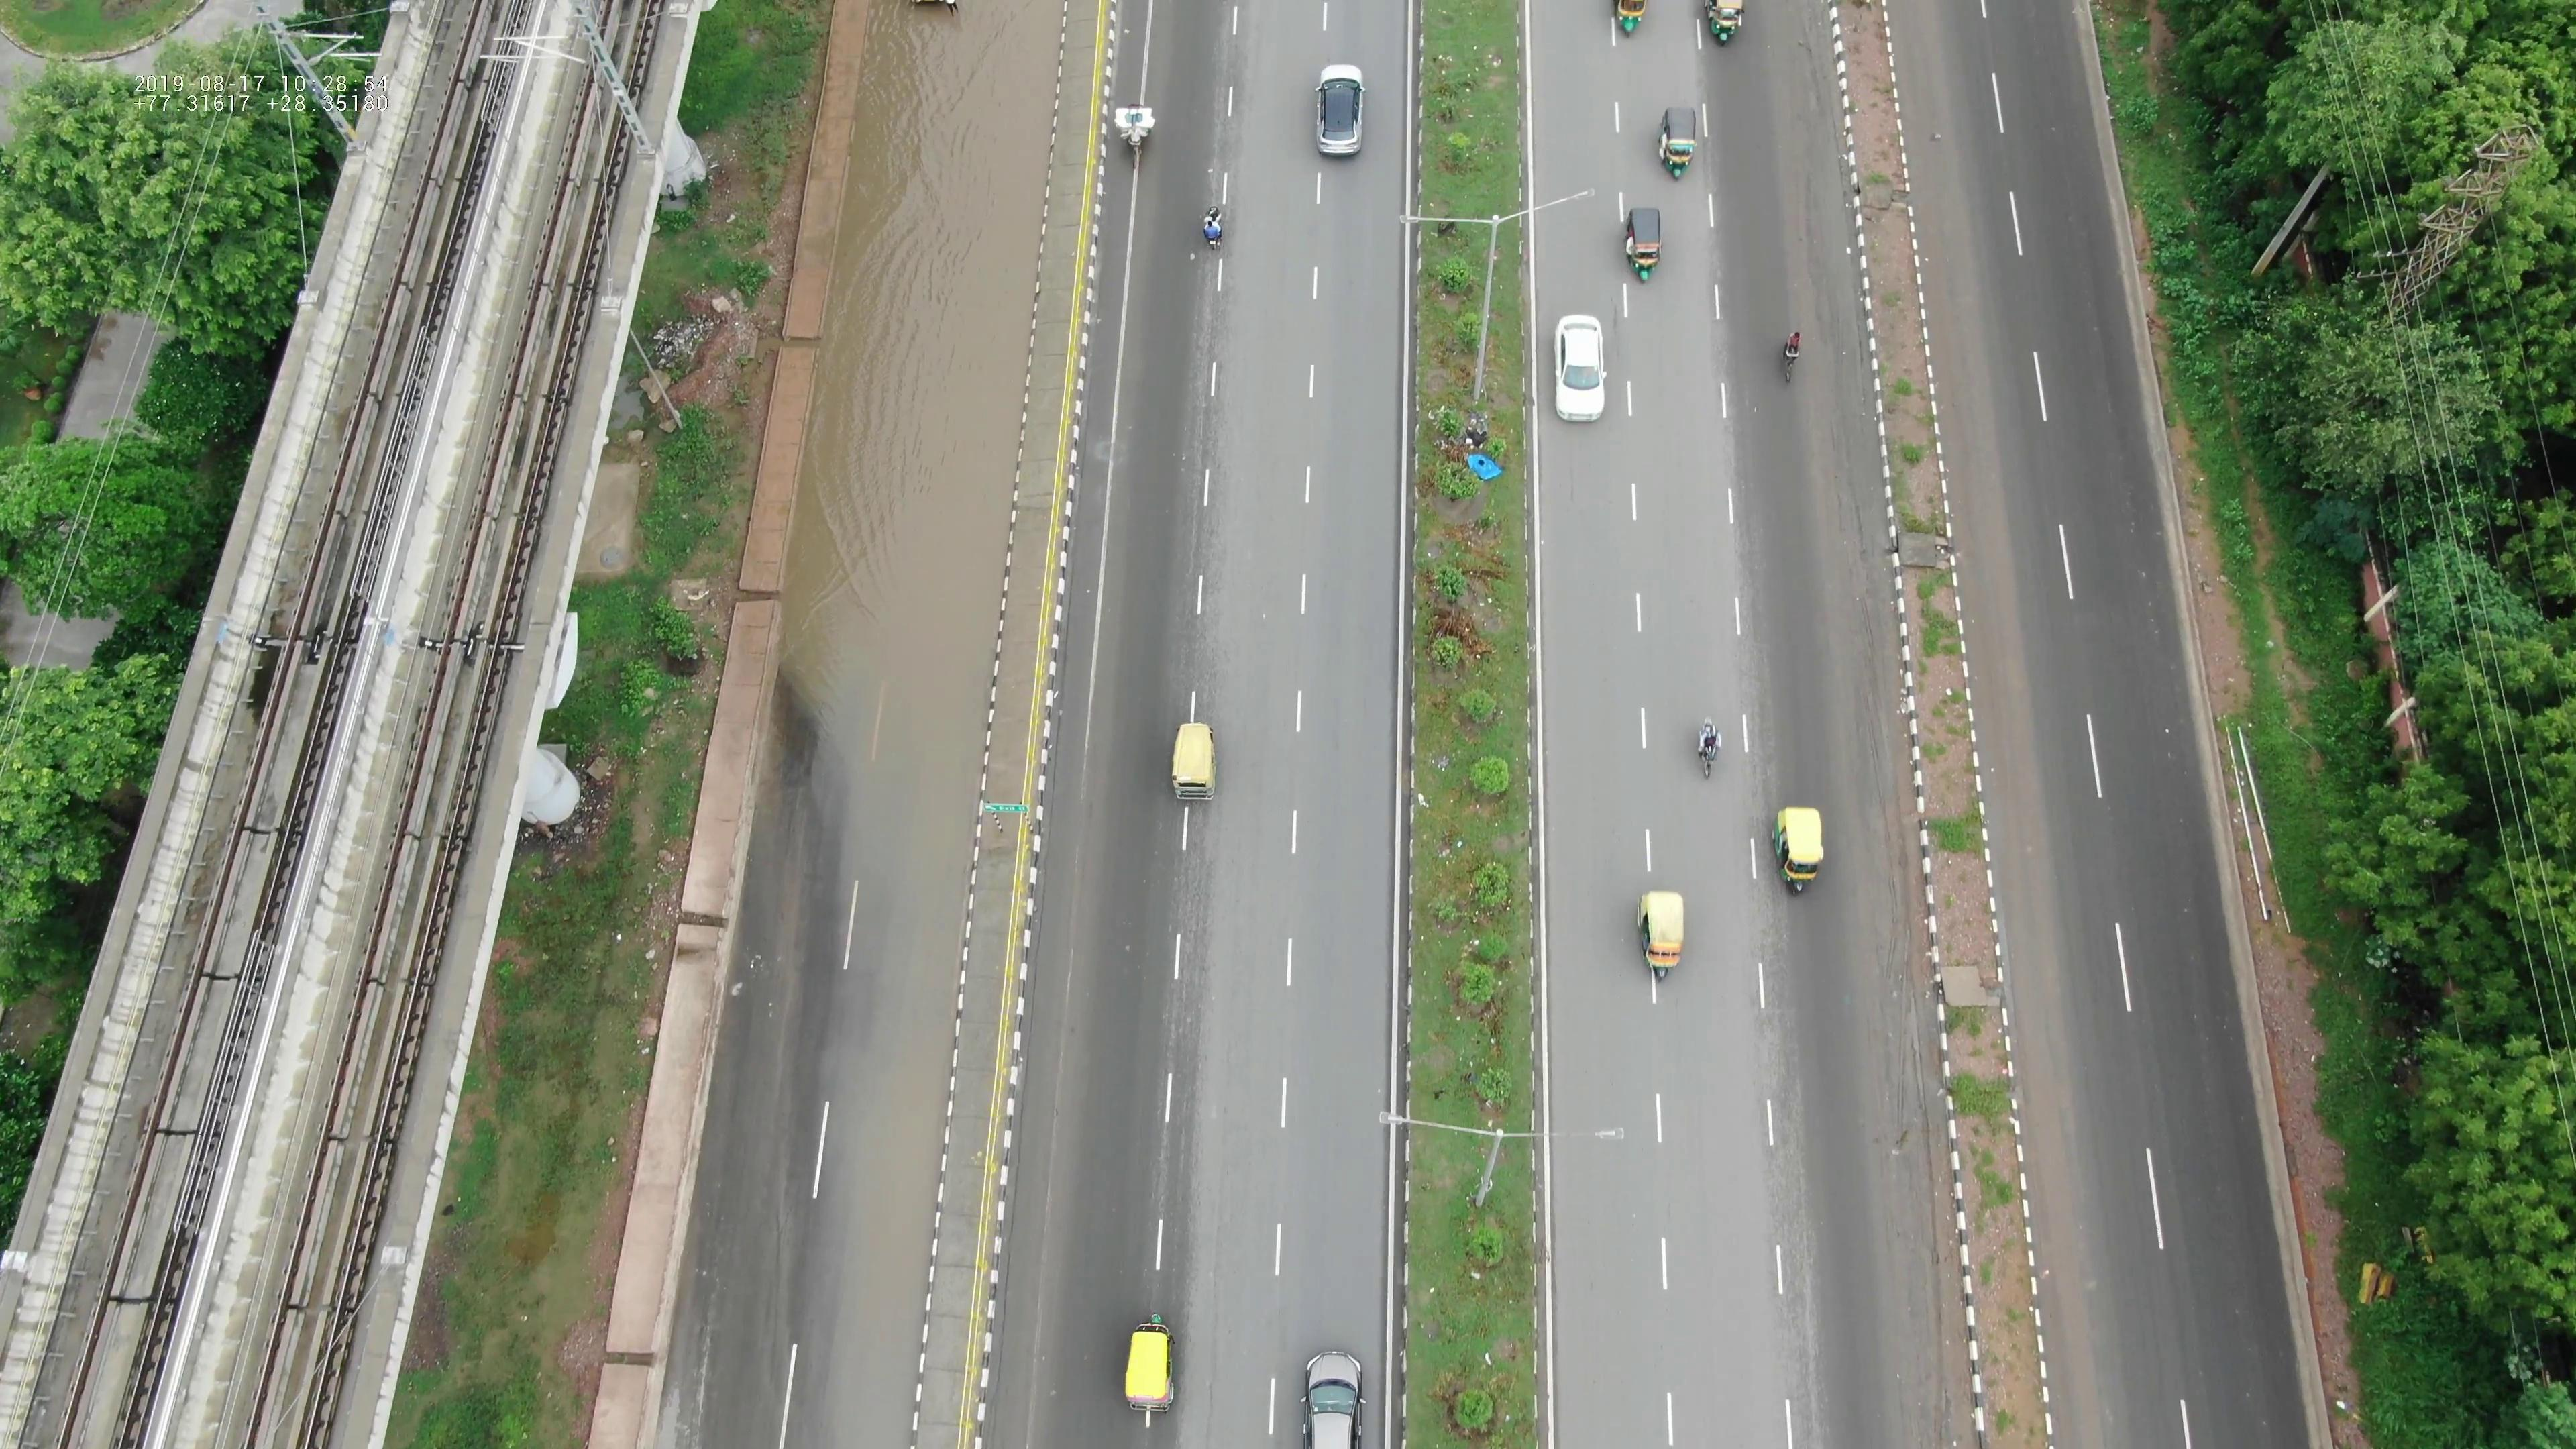Muddy_road: (1861, 909, 1941, 1410), (1990, 757, 2084, 1175), (1943, 347, 2043, 731), (1762, 37, 1874, 384), (1817, 444, 1911, 855)
Waterlogging: (778, 11, 1065, 775)
